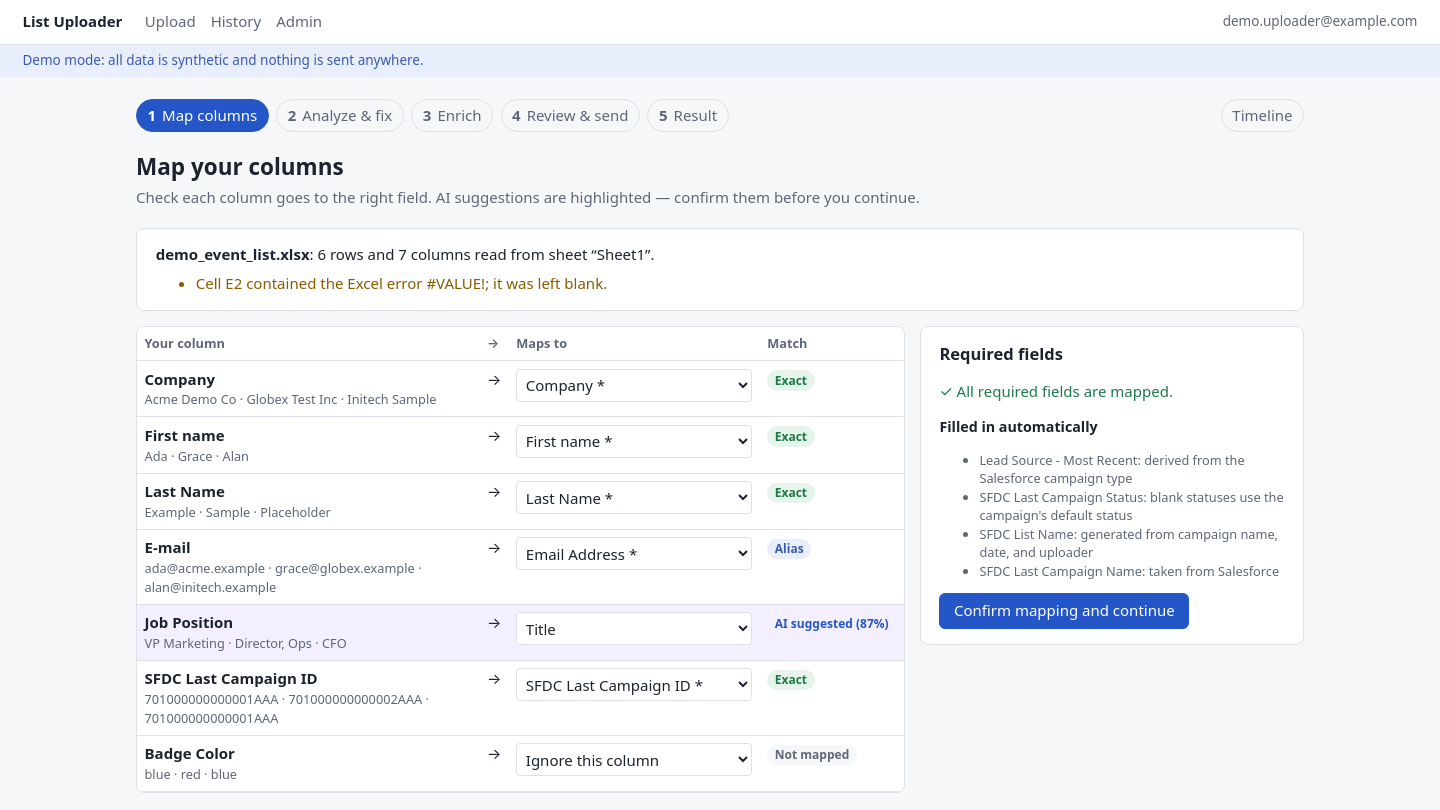
Test: mapping screen › shows the server's validation message
This screenshot has width=1440, height=810.
Click the button "Confirm mapping and continue".
click(1064, 611)  # box left=939, top=593, right=1189, bottom=629
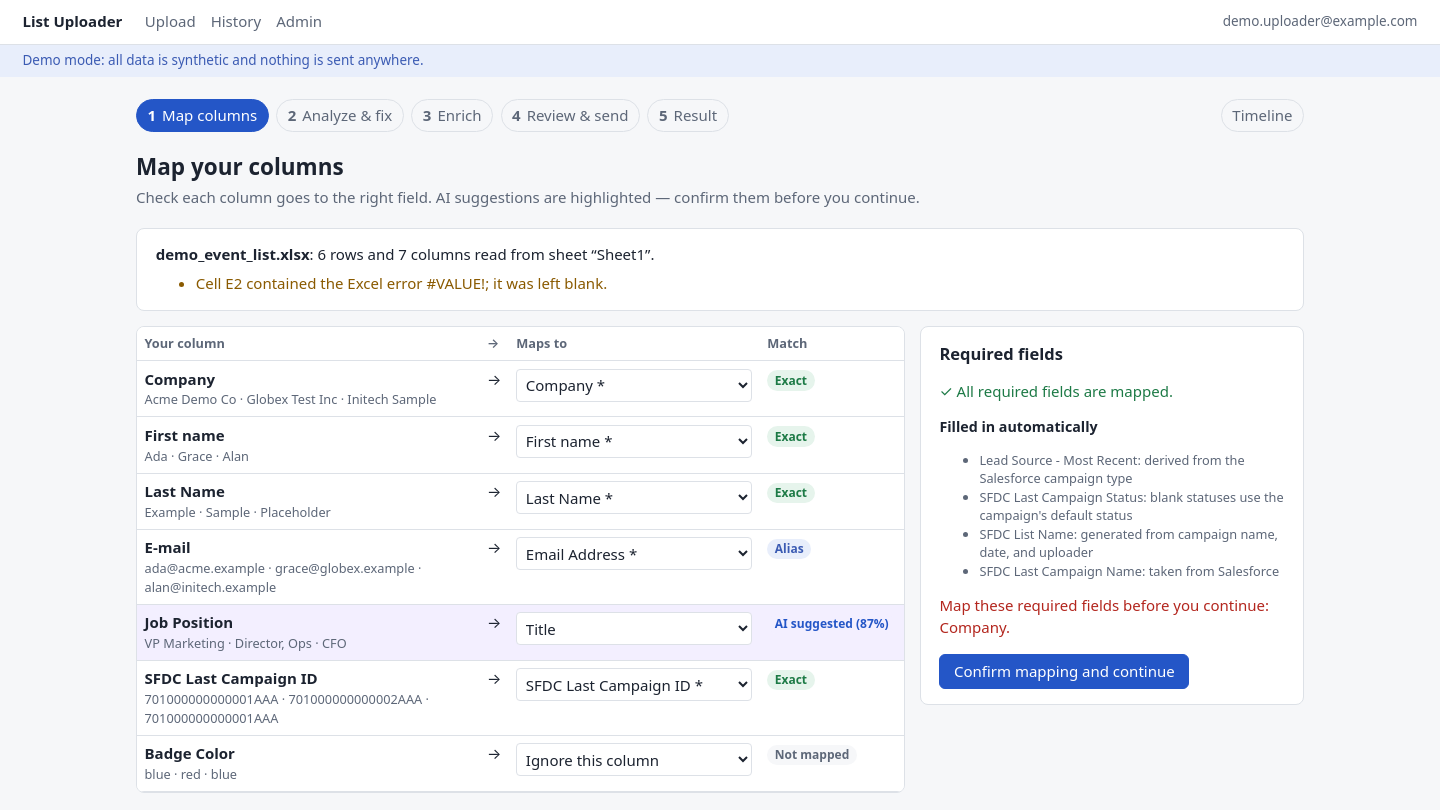
Result: the message shows "Map these required fields" at left=939, top=595, right=1269, bottom=637
